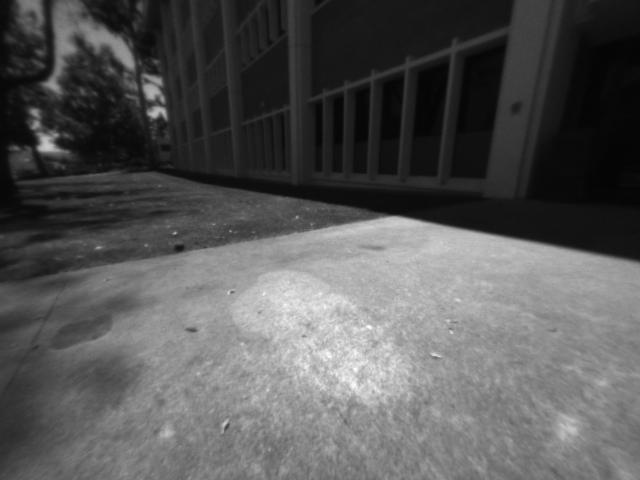dogtoy: (168, 235, 191, 256)
